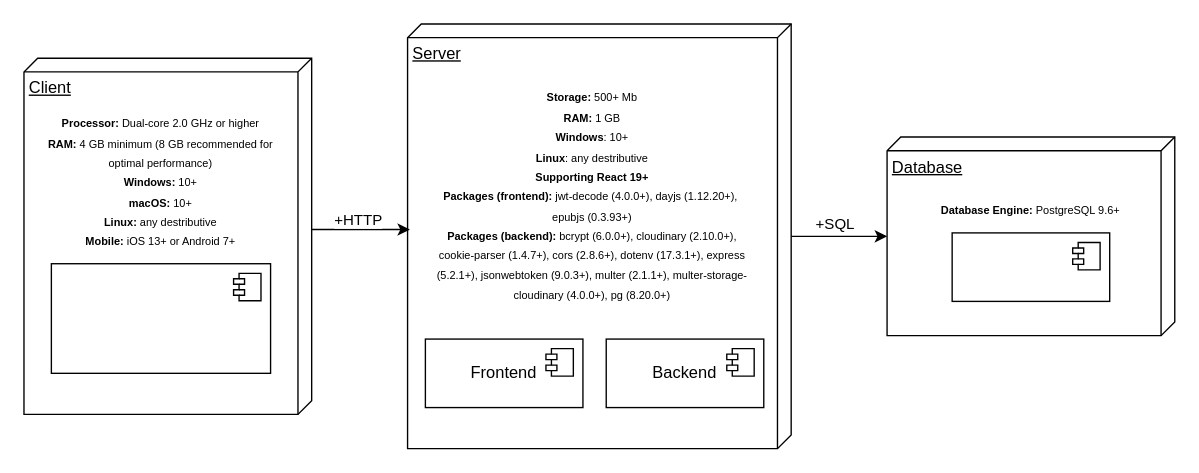
The diagram is 1199 pixels wide and 473 high, and some of its shapes have lost their labels. The centre of each missing label's shape, as x and y in pixels:
"PostgreSQL" belongs at (1030,266).
"Web-browser" belongs at (160,317).
